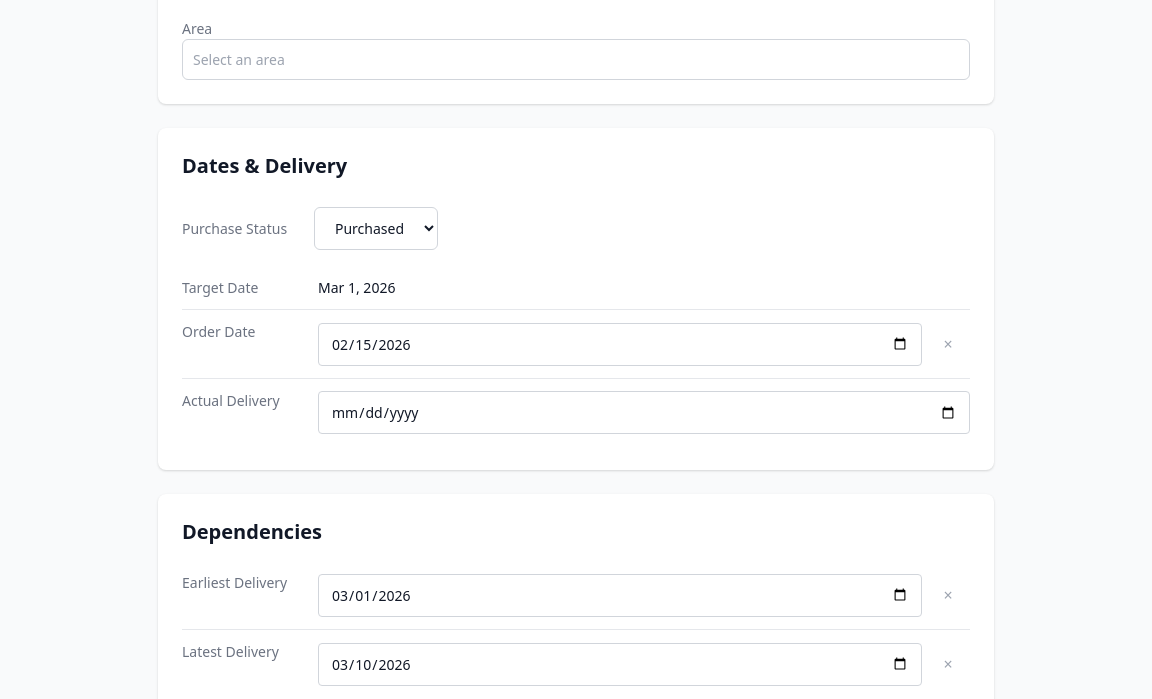
it: HouseholdItemDetailPage — inline date editing (Story #467) › Autosave error handling › shows an inline error message when updateHouseholdItem rejects on order date blur
(page scrolled)
Type "2026-03-15" into the date field labelled "Order Date".
click(620, 344); type("2026-03-15")  # box [318,322,922,366]
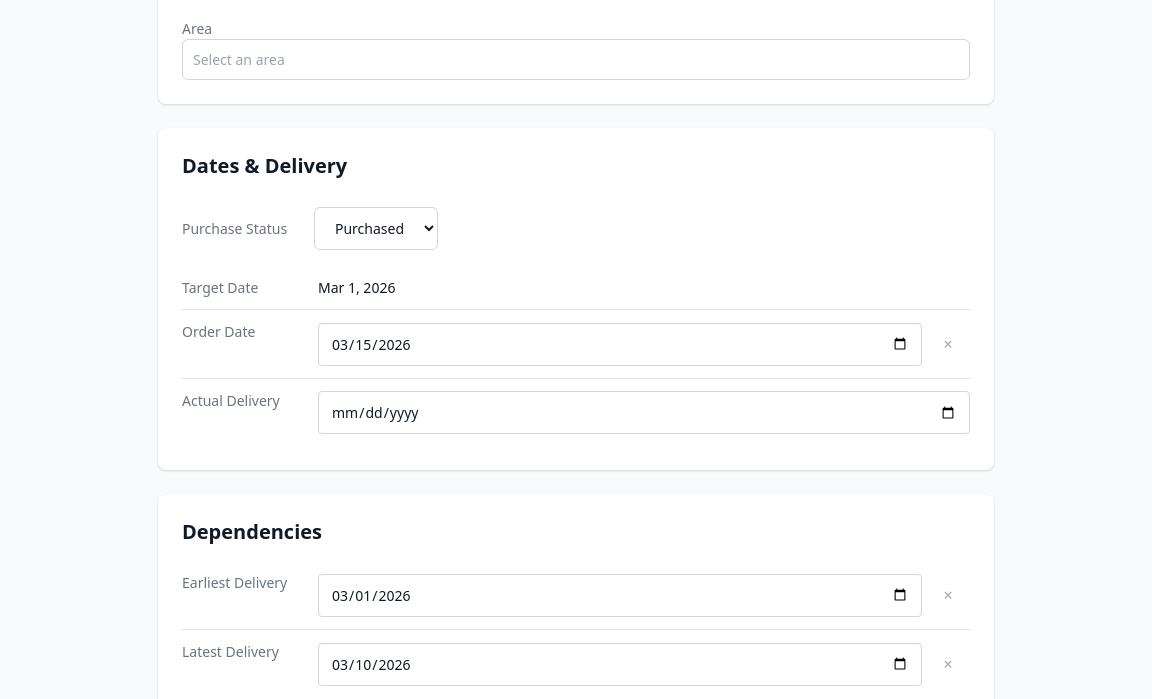
Leave the date field labelled "Order Date", box [318,322,922,366]
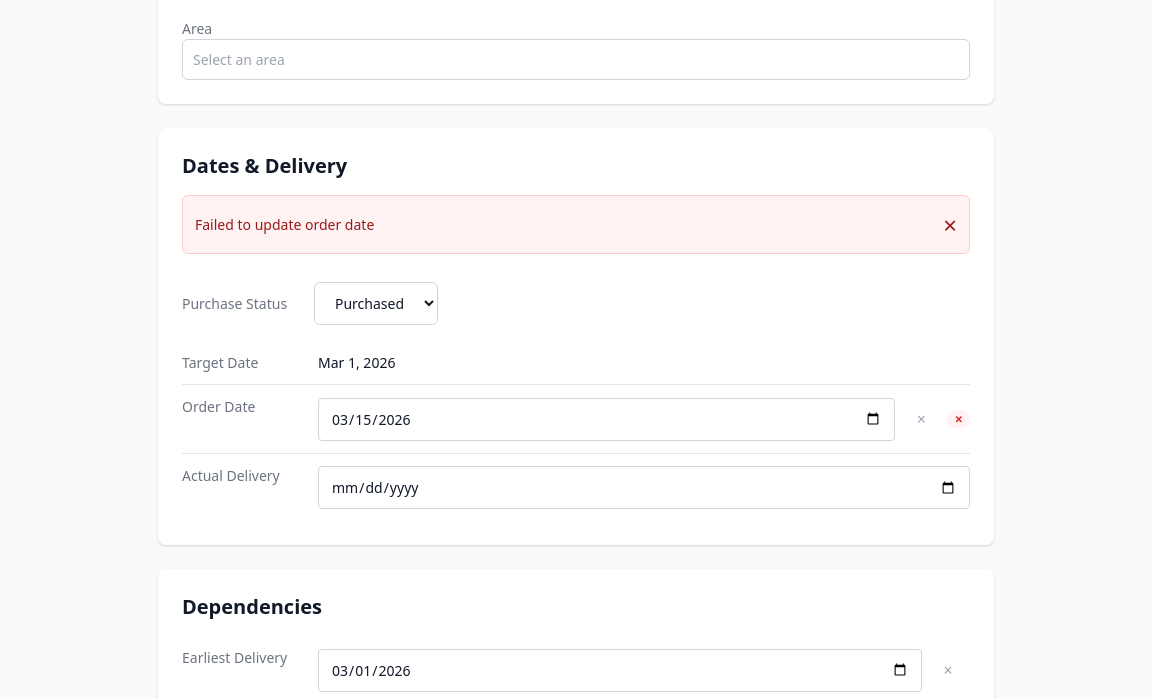
expect the message "Failed to update order date ×" is shown: met, box [182,195,970,254]
expect the message shows "Failed to update order date": met, box [195,215,374,234]
